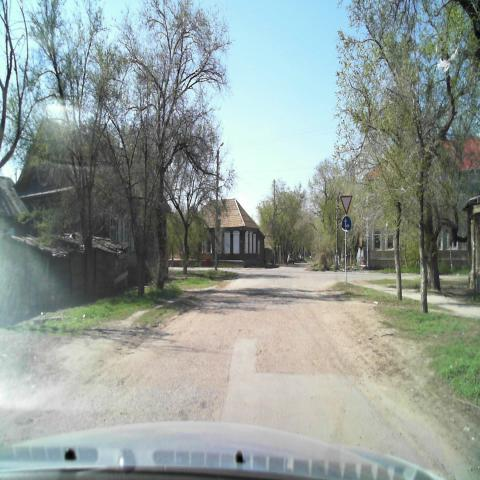4_1_4: (342, 216, 352, 233)
